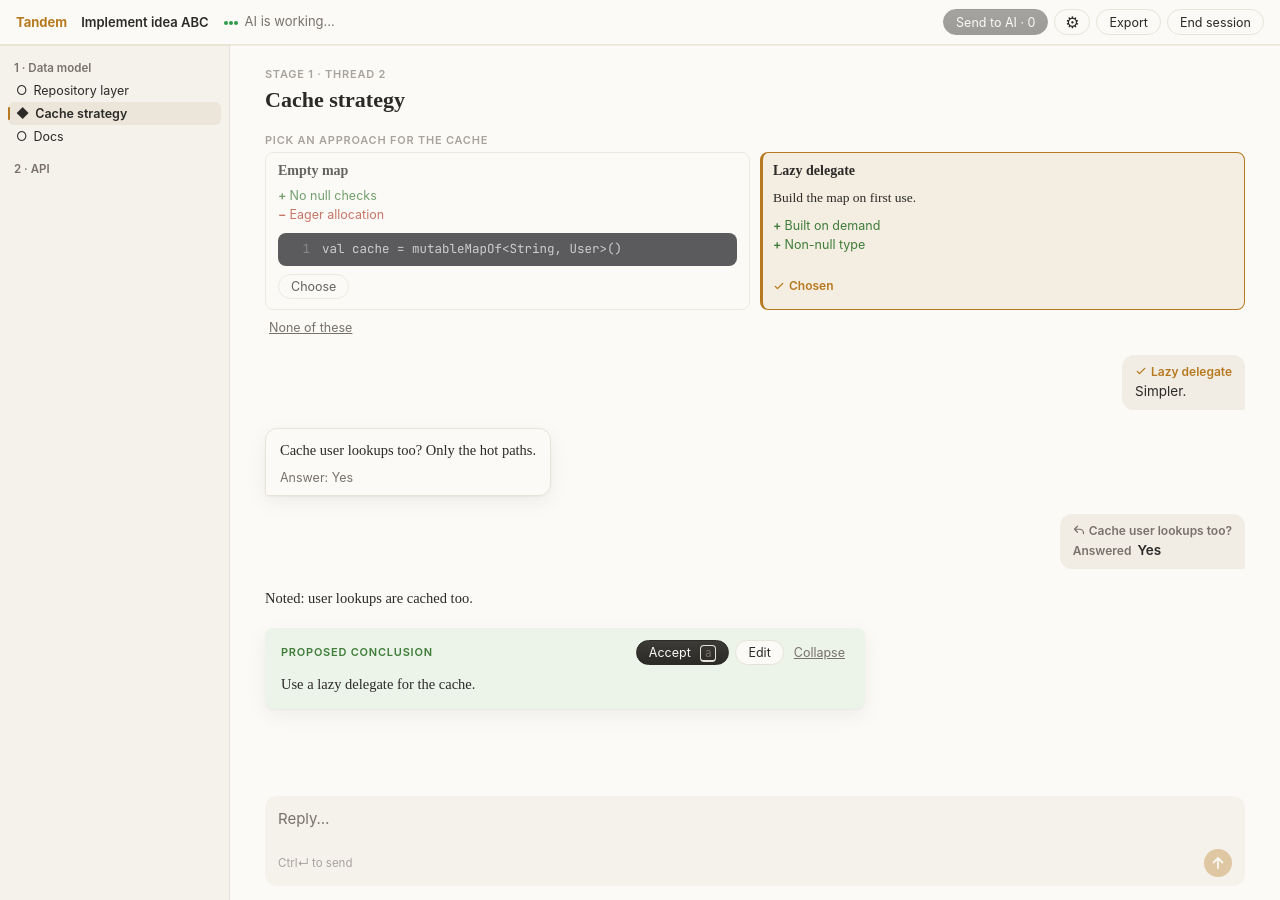
SessionPage › does not advance when the accept fails (F12b-4)
Click the button "Accept a" at (683, 653), box top-left (636, 640), bottom-right (729, 665)
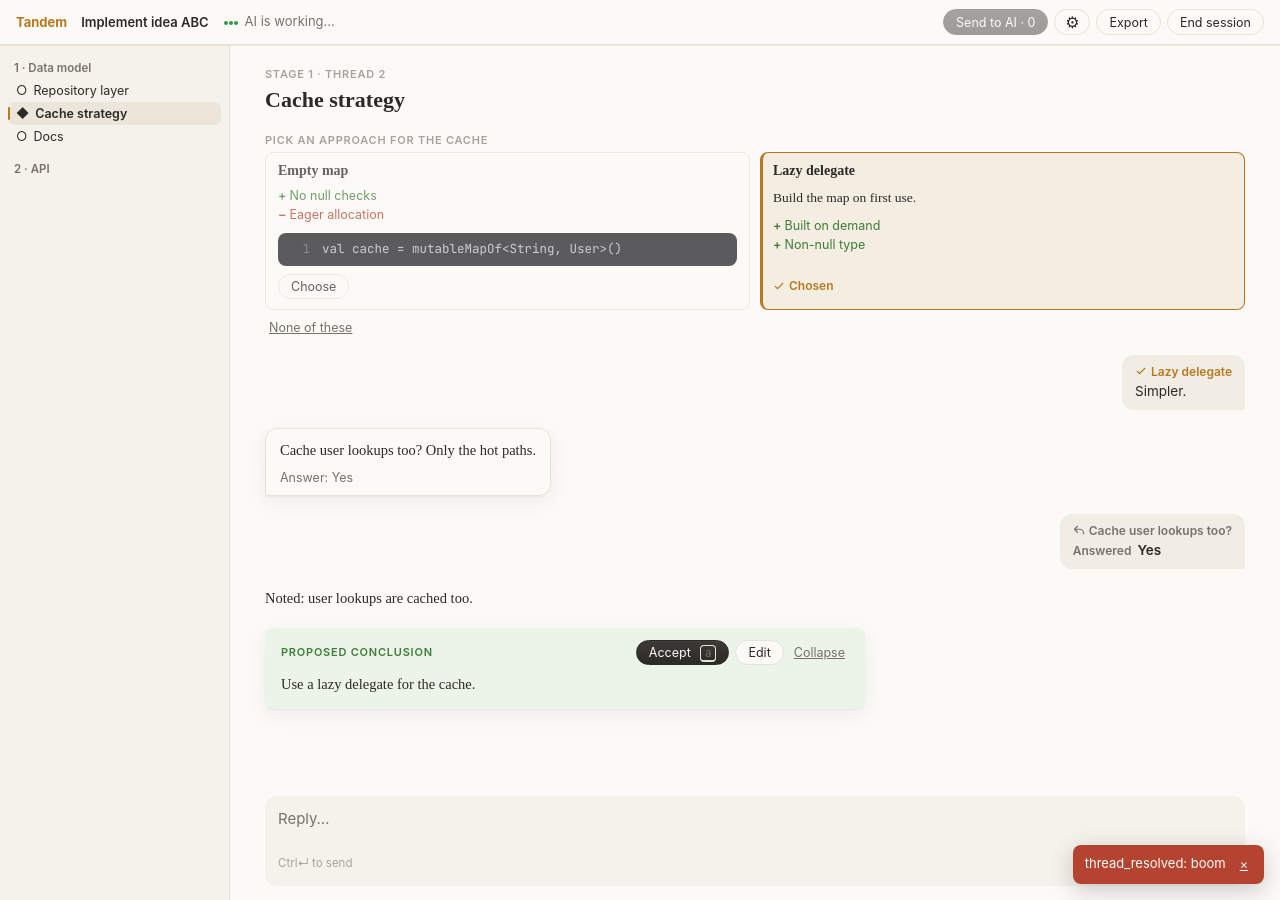
Expected: the heading "Cache strategy" is shown, top-left (265, 87), bottom-right (405, 112)
Now the message "thread_resolved: boom ×" is shown, box top-left (1073, 845), bottom-right (1264, 884)
